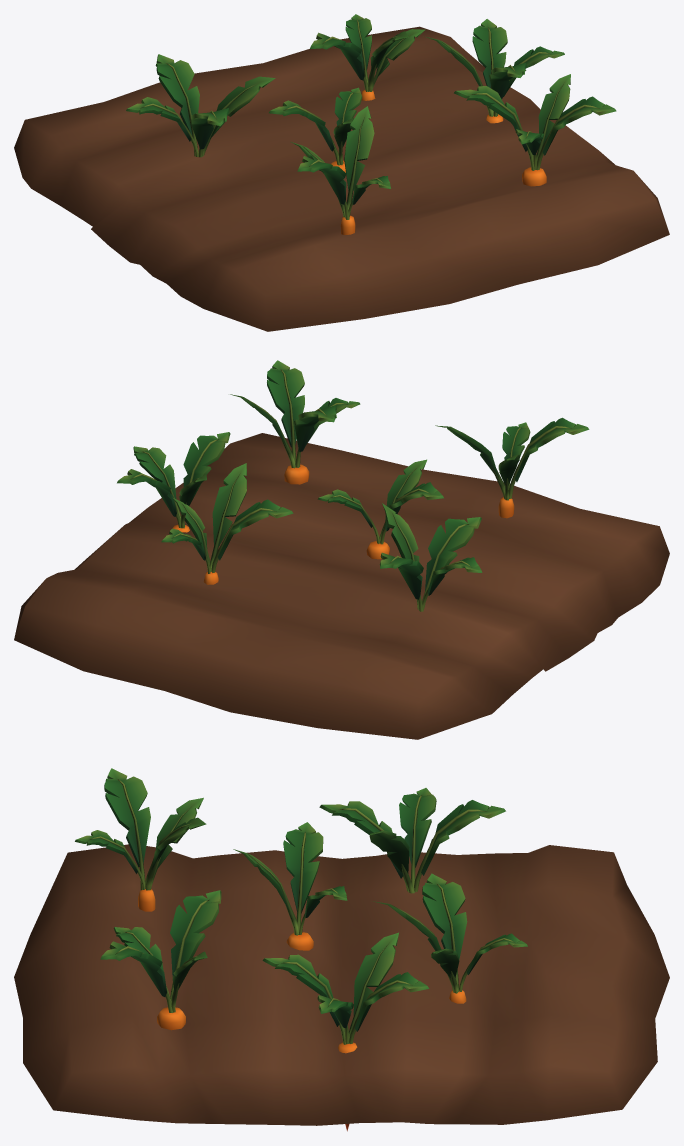
File: SM_PlantSoil_Carrot_Lv3.fbx
The picture shows the model from 3 angles, top to bottom: view 1: azimuth 30°, elevation 25°; view 2: azimuth 150°, elevation 25°; view 3: azimuth 270°, elevation 25°; orthographic projection. The views are drawn at different scales.
Visible parts, largest first — view 1: SM_PlantSoil_Carrot_Lv3; view 2: SM_PlantSoil_Carrot_Lv3; view 3: SM_PlantSoil_Carrot_Lv3.
Boxes of the visible parts, x1,y1,x2,y2 form: SM_PlantSoil_Carrot_Lv3: (14,14,669,331); SM_PlantSoil_Carrot_Lv3: (14,360,669,739); SM_PlantSoil_Carrot_Lv3: (14,768,669,1131).
Size of the model in its own units: 96.14 by 35.95 by 103.
